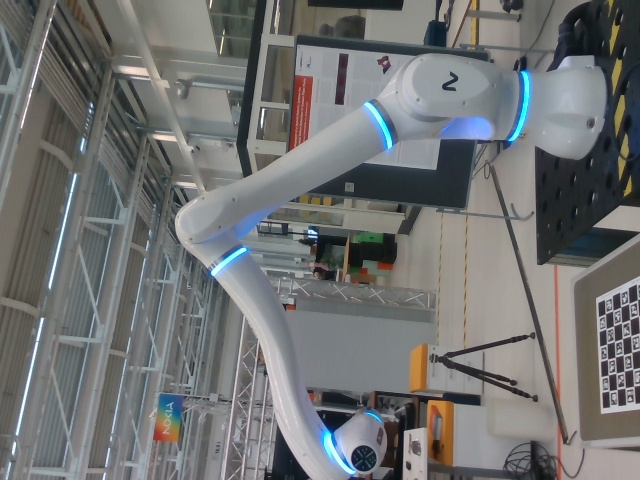Robot arm: (174, 52, 608, 480)
